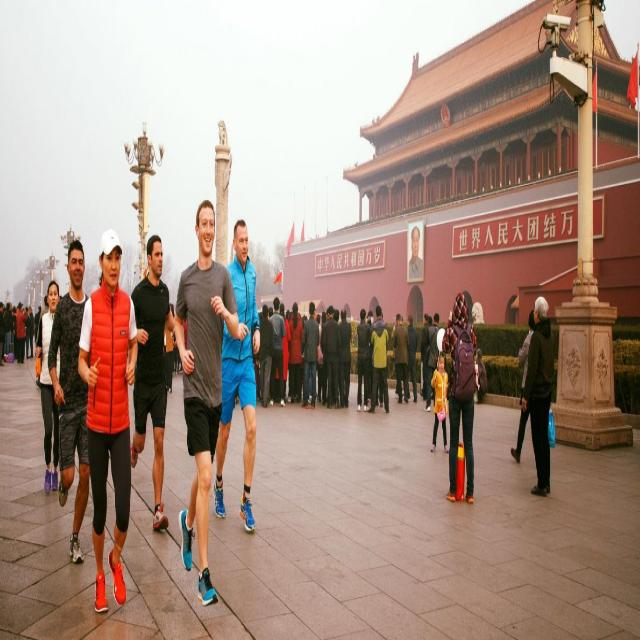body: (171, 195, 240, 610), (76, 224, 139, 615), (173, 297, 330, 402), (211, 214, 262, 537), (46, 236, 91, 566), (129, 233, 174, 532), (441, 287, 477, 508), (520, 293, 556, 499), (34, 278, 62, 494), (0, 295, 65, 367), (510, 308, 538, 464), (365, 304, 392, 416), (321, 303, 342, 412), (254, 302, 275, 410), (300, 299, 320, 411), (354, 306, 374, 416), (430, 350, 450, 455), (272, 300, 292, 405), (268, 294, 286, 408), (323, 306, 340, 406), (336, 305, 352, 411), (288, 301, 304, 406), (392, 314, 410, 405), (425, 311, 440, 413), (364, 310, 376, 413), (390, 313, 404, 401), (405, 313, 418, 404), (419, 314, 433, 398), (317, 311, 328, 405), (374, 310, 384, 409), (308, 307, 318, 400), (419, 311, 429, 401), (314, 312, 324, 401), (15, 299, 28, 367), (474, 346, 488, 406), (408, 224, 423, 278), (35, 294, 50, 348), (320, 310, 328, 403), (169, 301, 176, 379), (3, 301, 12, 359), (34, 304, 42, 358), (0, 299, 6, 368), (28, 307, 34, 359), (24, 306, 29, 320)
